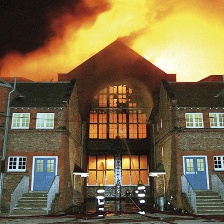fire: (148, 52, 186, 76)
smoke: (14, 1, 198, 62)
